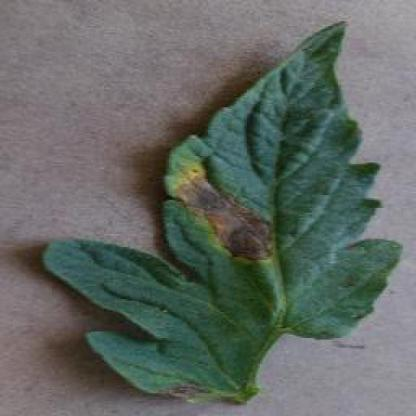Tomato_Blight: (44, 23, 401, 398)
